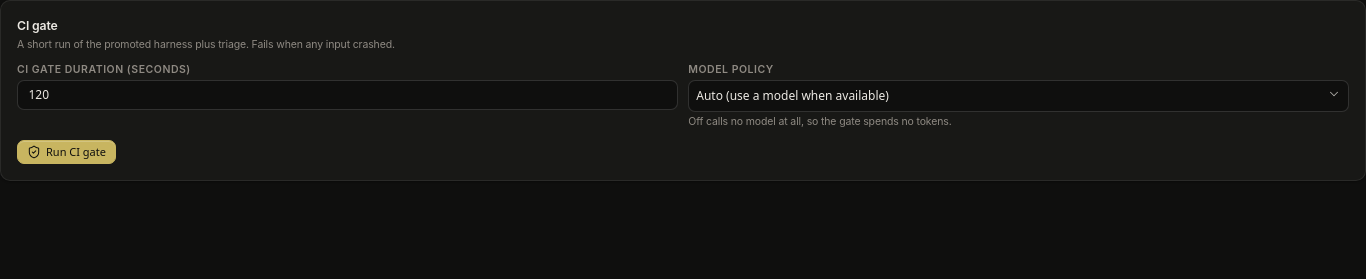
Test case: shows PASS when the CI gate finds nothing
Click the button "Run CI gate" at (66, 152), box [17,140,116,164]
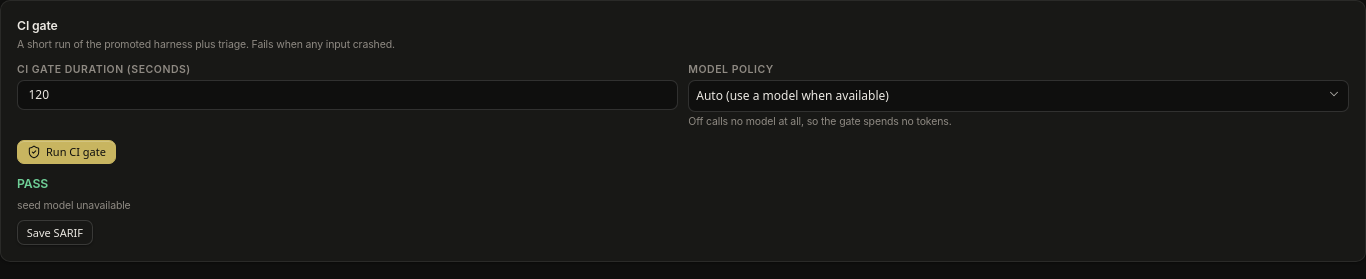
Expected: the text "PASS" is shown, [17,176,48,190]
Expected: the text "seed model unavailable" is shown, [17,199,131,212]
